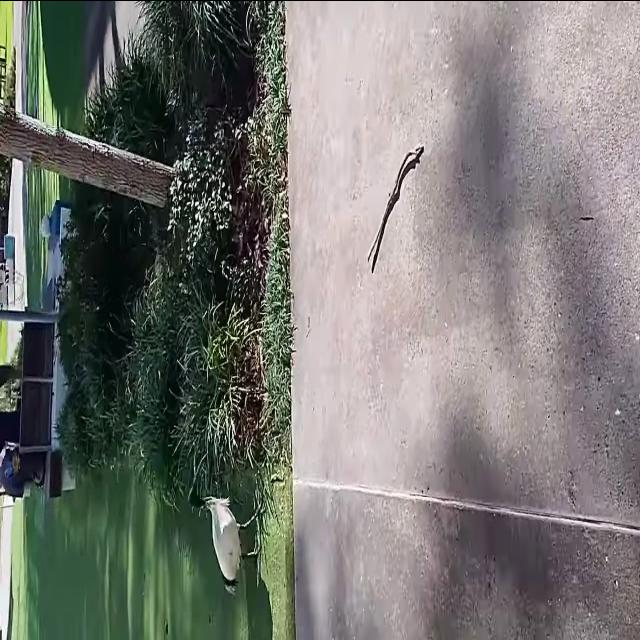Birds-Ibis: (184, 444, 270, 600)
